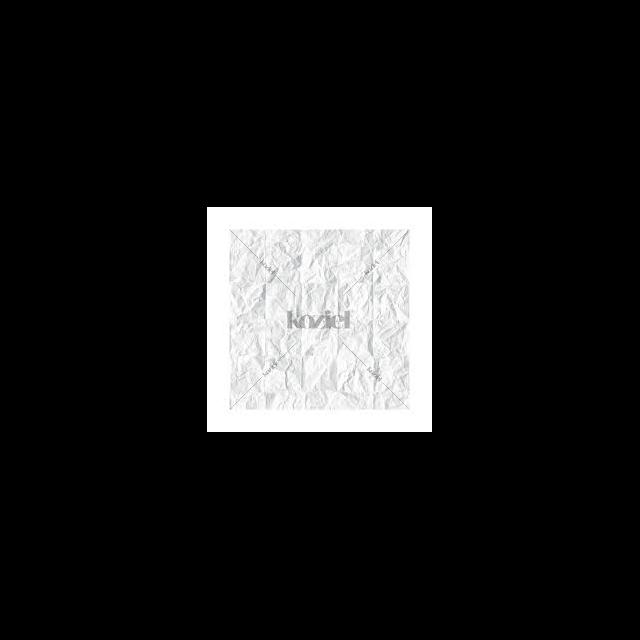paper: (228, 228, 410, 410)
